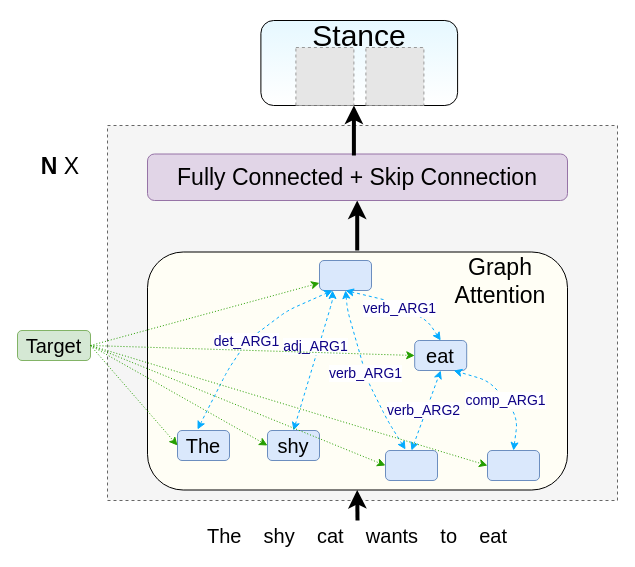
This 635x567 diagram has some shape labels left out. Grey dashed boxes stand in for pictures. Each missing label, with the centre of its shape:
"cat" belongs at point 345,275.
"to" belongs at point 513,465.
"wants" belongs at point 411,465.
